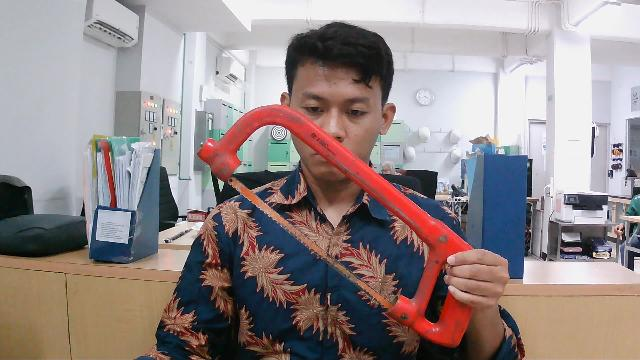gergaji_besi: (193, 89, 483, 353)
